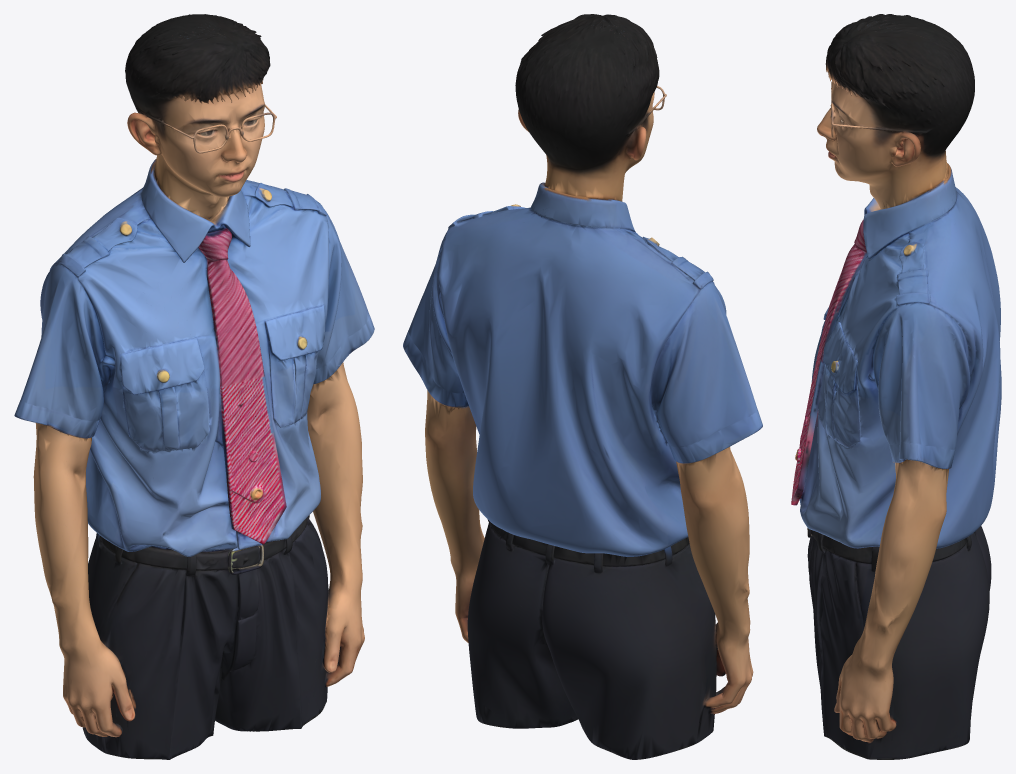
The model's file is railway-uniform-dispatcher-lite.glb.
3 views of the same model, side by side, from view 1: azimuth 30°, elevation 25°; view 2: azimuth 150°, elevation 25°; view 3: azimuth 270°, elevation 25° (orthographic).
Visible parts, largest first — view 1: node_0; view 2: node_0; view 3: node_0.
Boxes of the visible parts, bbox=[...] form: node_0: bbox=[14, 14, 374, 759]; node_0: bbox=[403, 14, 762, 759]; node_0: bbox=[791, 14, 1001, 759].
Size of the model in its own units: 0.6163 by 1.14 by 0.3186.
Materials: 1 (1 with a texture image).
